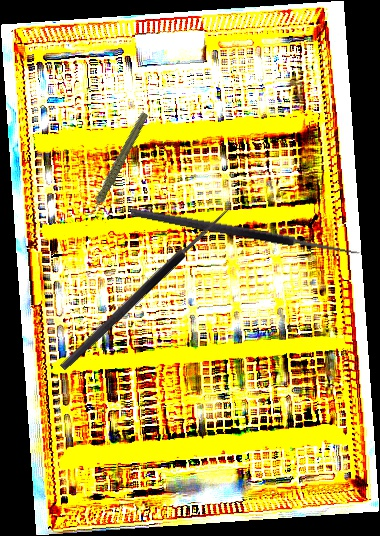Handpiece: (64, 110, 168, 220)
Hook Surgical: (51, 193, 235, 373), (129, 195, 364, 260)
